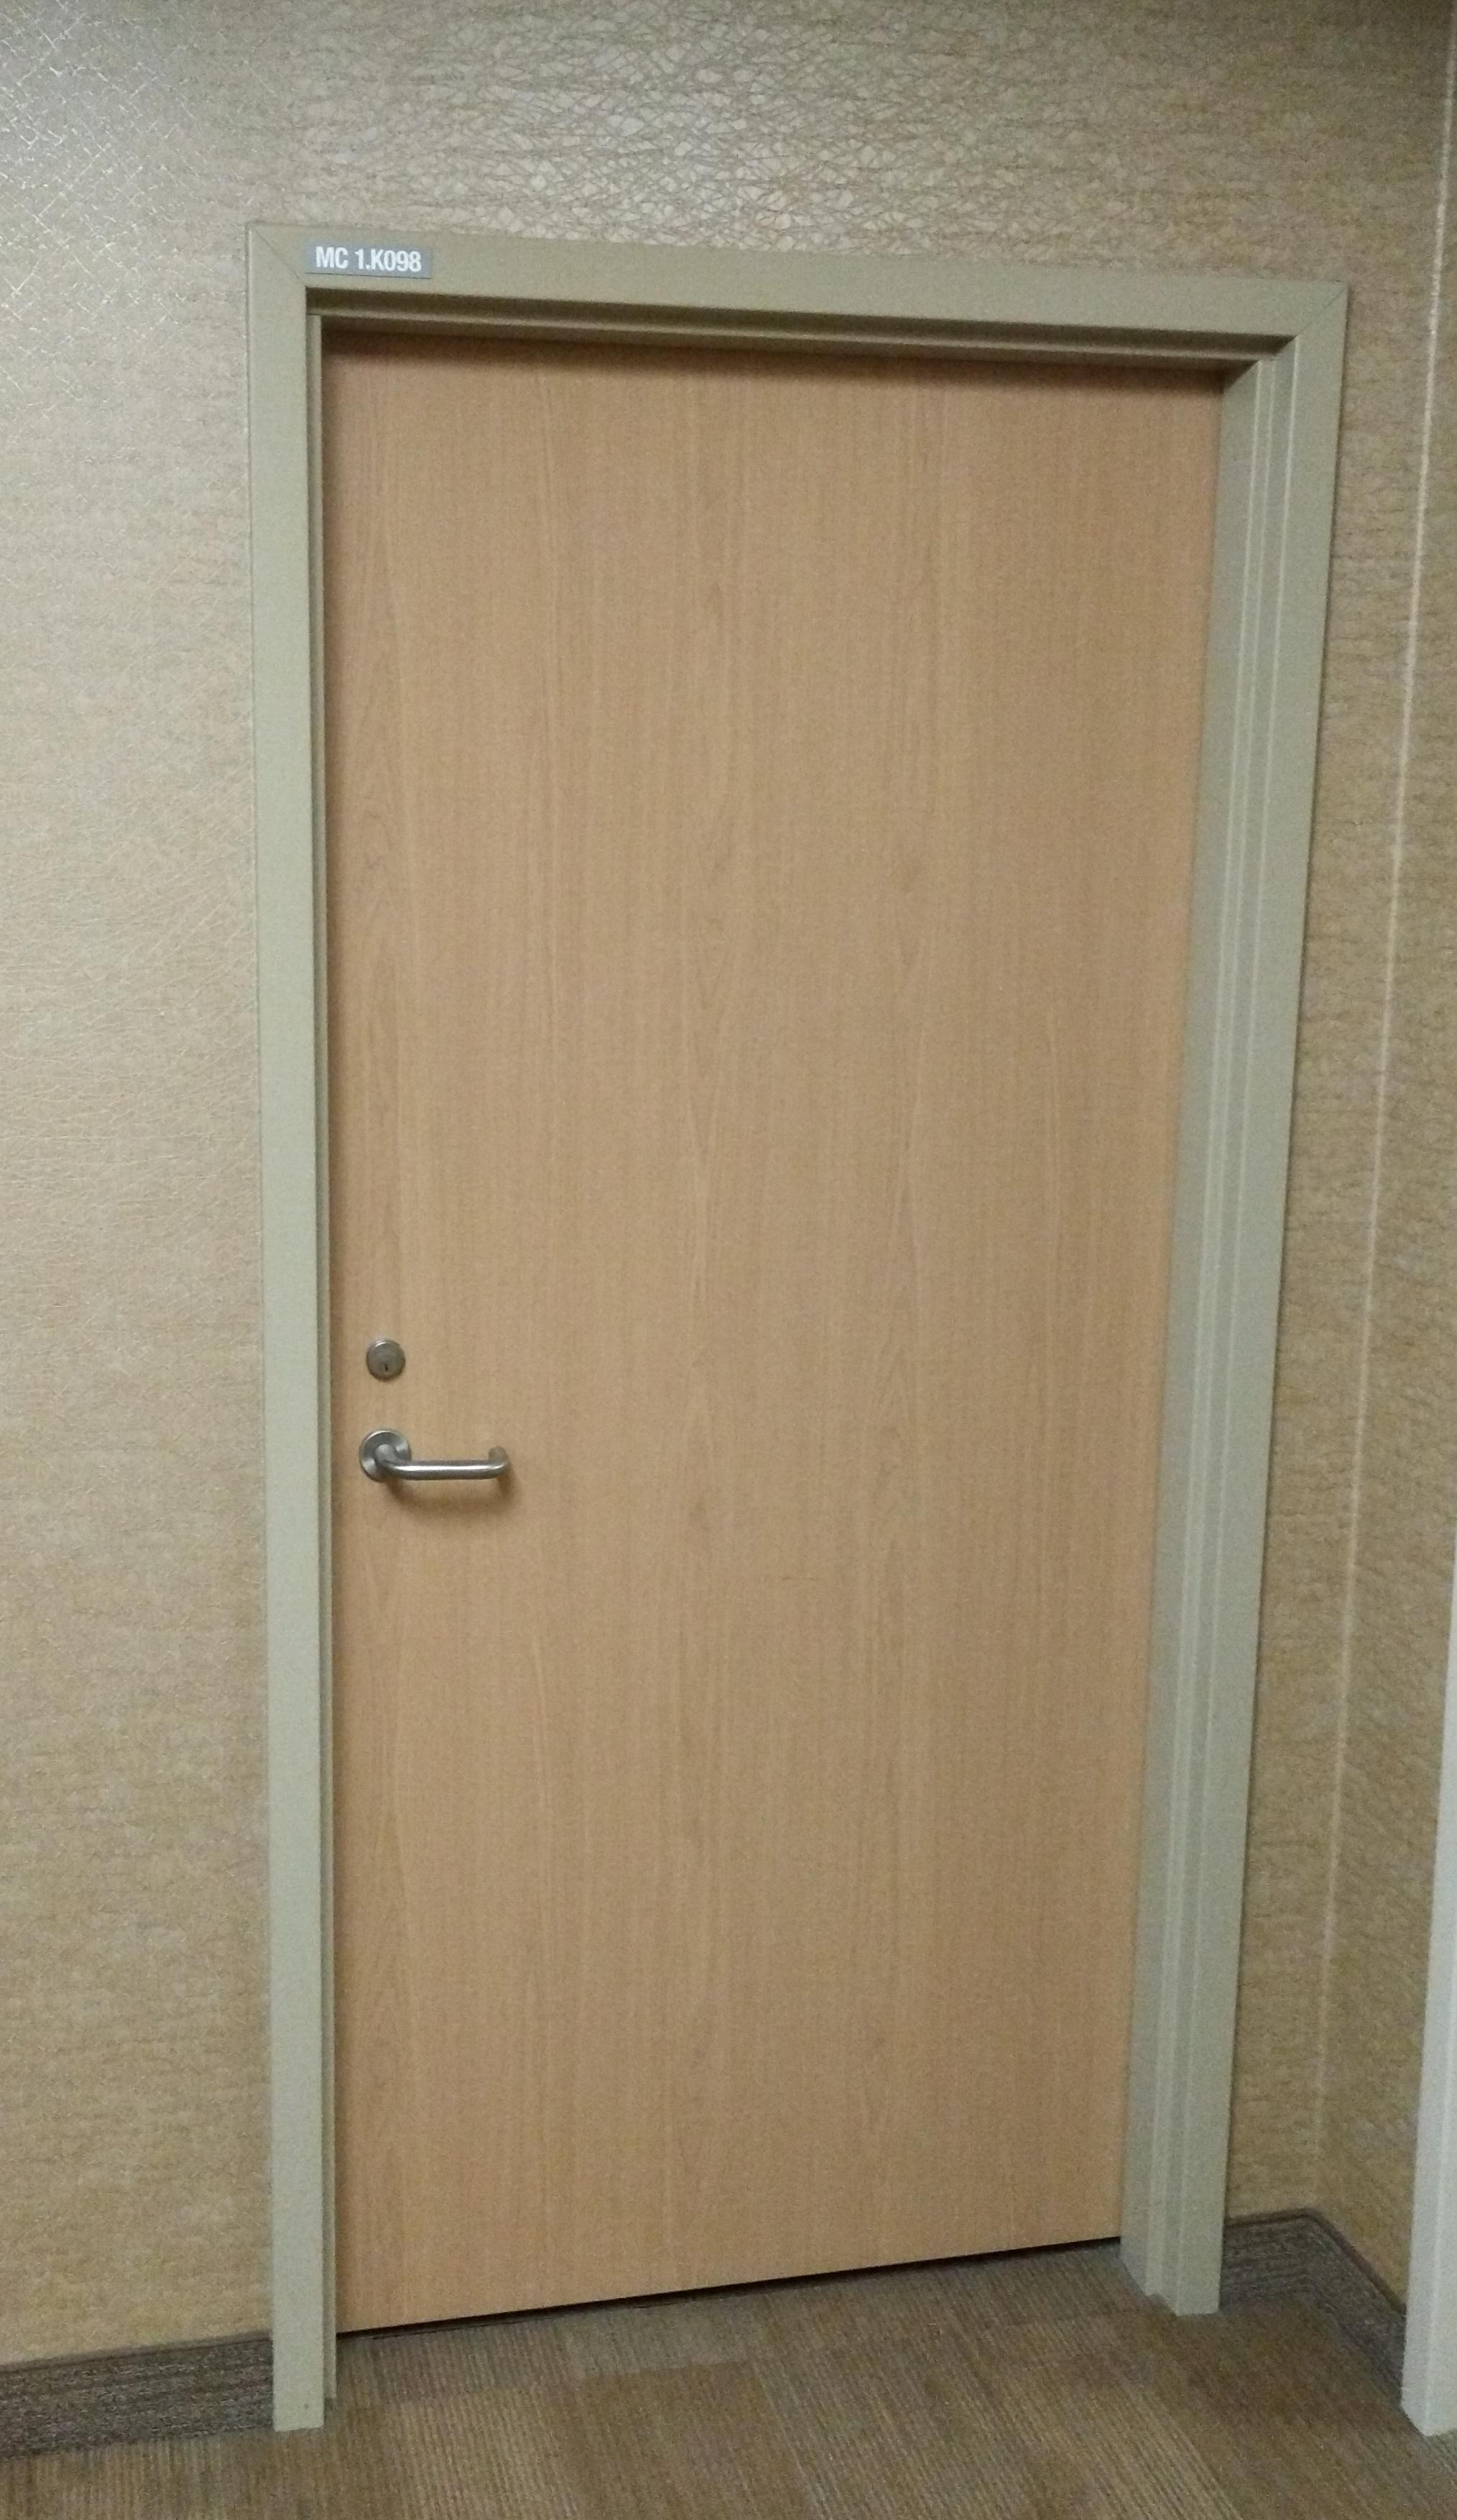door: (331, 361, 1124, 2248)
handle: (380, 1441, 515, 1523)
